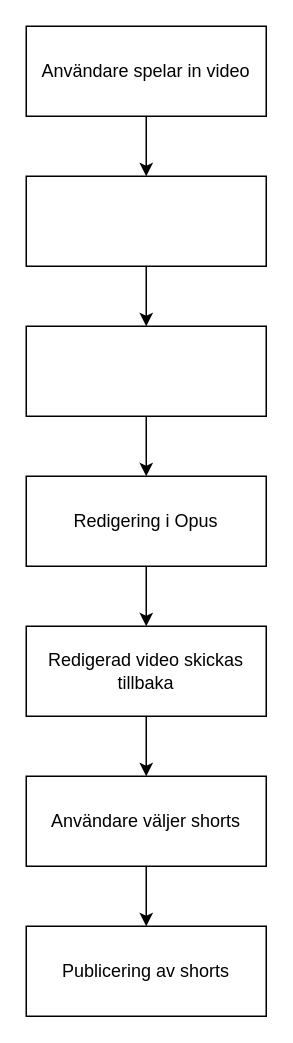
Image size: 293x1043. Some labels were removed from this diagram. The shapes that lost their labels are listed below. From the top down, each one's box as (x1, y1, x2, y2) in pixels, then its label:
(25, 175, 266, 266): Lagring i molndatabas t.ex. Azure eller MongoDB Atlas
(25, 325, 266, 416): Automatisk överföring till Opus via Opus API
